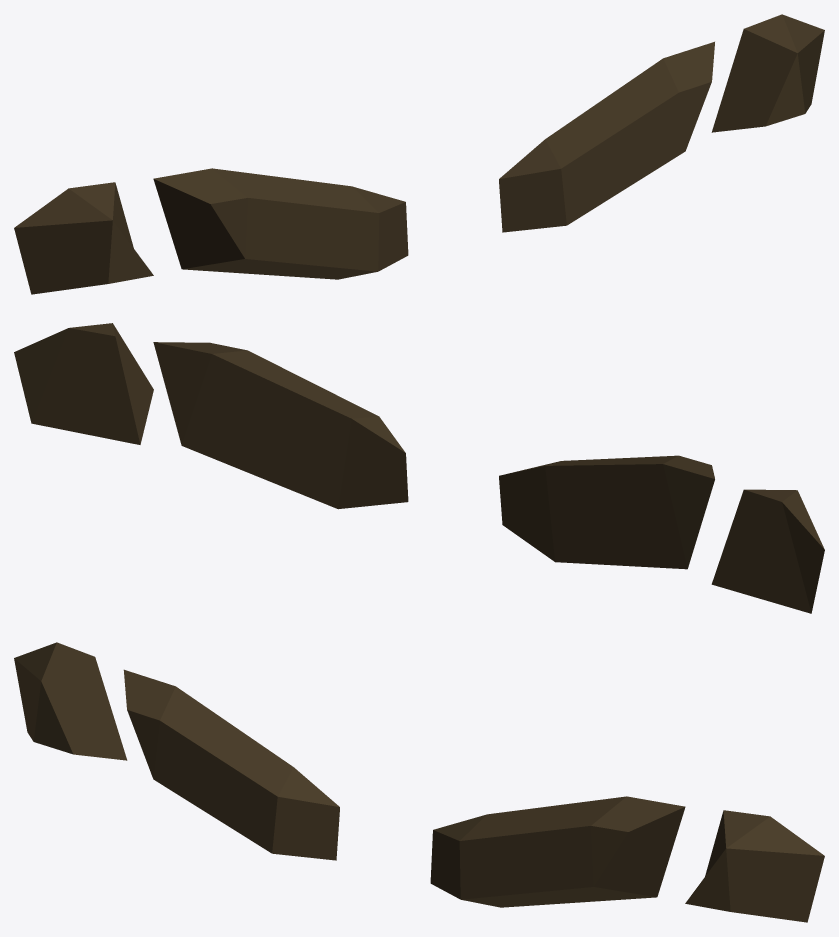
File: Chr_Eyebrow_Female_02_Static.fbx
3 views of the same model, one above another, from view 1: azimuth 30°, elevation 25°; view 2: azimuth 150°, elevation 25°; view 3: azimuth 330°, elevation 25° (orthographic).
Visible parts, largest first — view 1: Chr_Eyebrow_Female_02_Static; view 2: Chr_Eyebrow_Female_02_Static; view 3: Chr_Eyebrow_Female_02_Static.
Part boxes in pixels (left/top/right/bottom): Chr_Eyebrow_Female_02_Static: left=14, top=14, right=824, bottom=294; Chr_Eyebrow_Female_02_Static: left=14, top=323, right=824, bottom=613; Chr_Eyebrow_Female_02_Static: left=14, top=642, right=824, bottom=922.
Bounding box in the file's own units: 0.1721 × 0.0276 × 0.0195.
